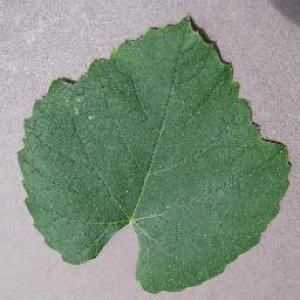Folha: (15, 11, 292, 294)
